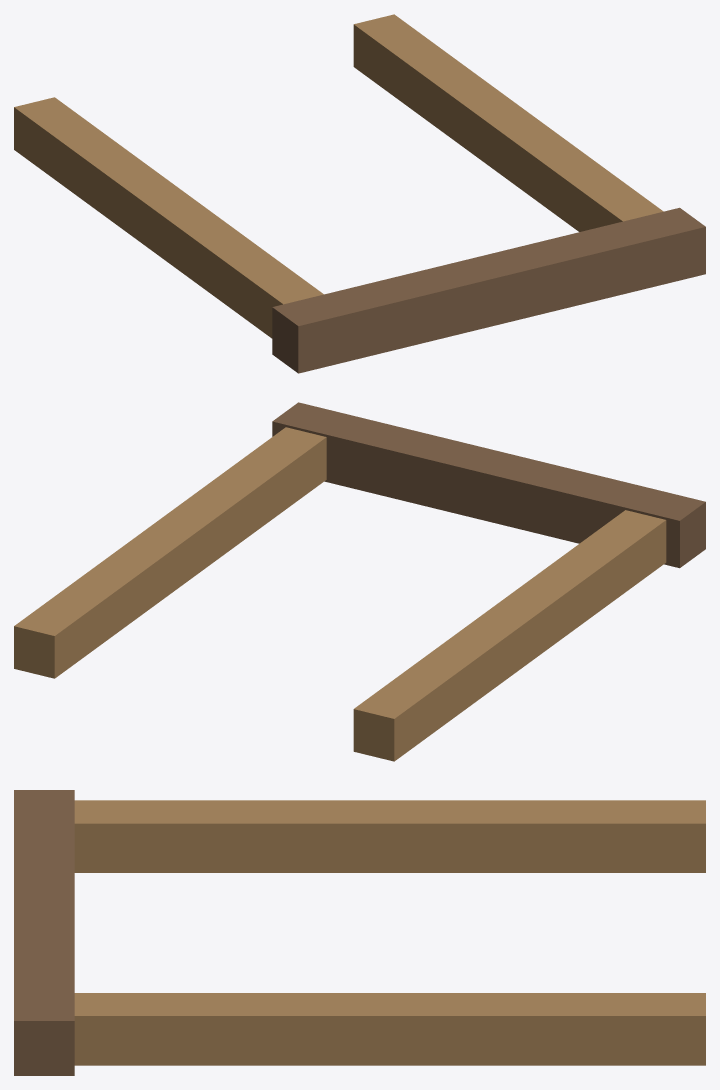
The model's file is cave_wooden_support_beam.glb.
3 views of the same model, one above another, from view 1: azimuth 30°, elevation 25°; view 2: azimuth 150°, elevation 25°; view 3: azimuth 270°, elevation 25° (orthographic). The views are drawn at different scales.
Visible parts, largest first — view 1: top_beam, post_l, post_r; view 2: top_beam, post_l, post_r; view 3: post_l, post_r, top_beam.
Part boxes in pixels (x1,y1,x2,y2): top_beam: (272, 207, 705, 373); post_l: (14, 97, 323, 338); post_r: (353, 14, 663, 231); top_beam: (272, 402, 705, 568); post_l: (353, 510, 666, 761); post_r: (14, 427, 326, 678); post_l: (74, 800, 705, 872); post_r: (74, 993, 705, 1065); top_beam: (14, 790, 74, 1075).
Size of the model in its own units: 1.8 by 0.2 by 2.28.
